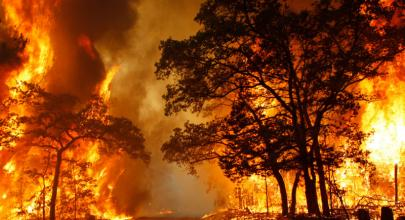fire: (2, 4, 128, 220), (343, 67, 402, 220), (200, 166, 335, 215), (238, 60, 294, 117)
smoke: (116, 11, 220, 215)
